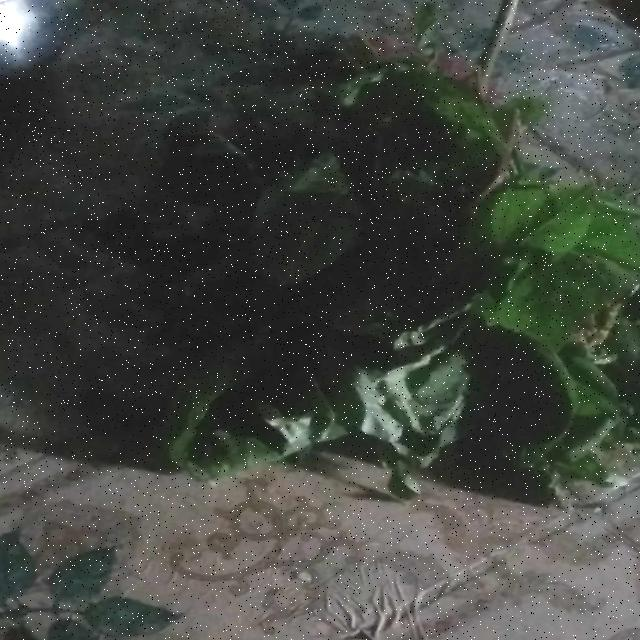Spinach: (139, 24, 626, 507)
